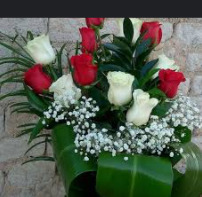RedRose: (132, 21, 162, 57), (69, 54, 103, 83), (154, 69, 188, 98), (22, 65, 54, 93), (78, 24, 101, 54), (84, 14, 110, 27)
